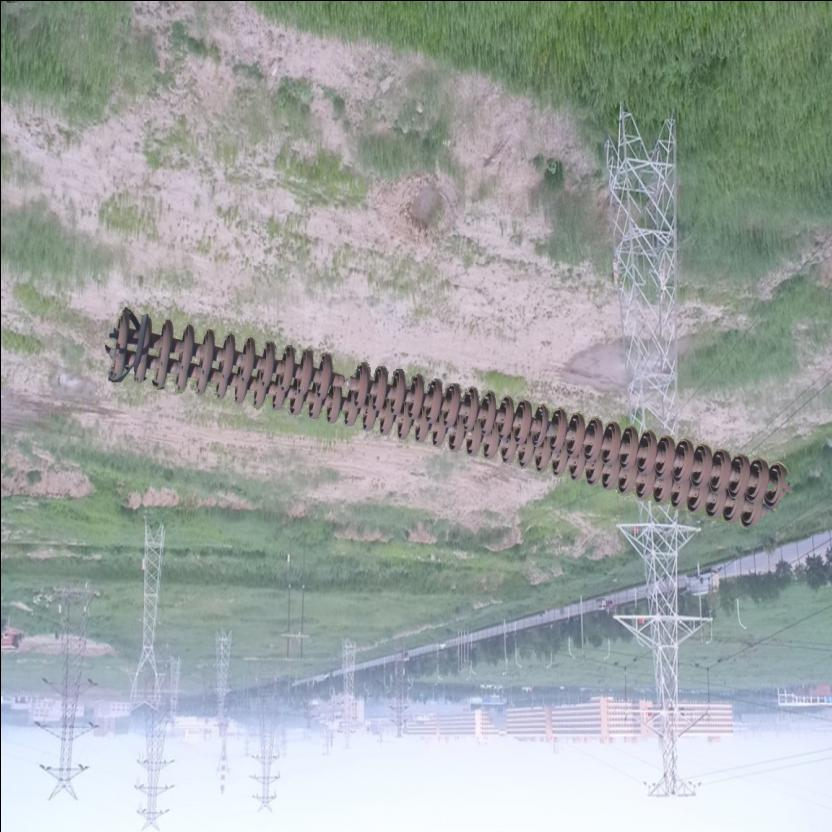defect: (314, 354, 374, 410)
